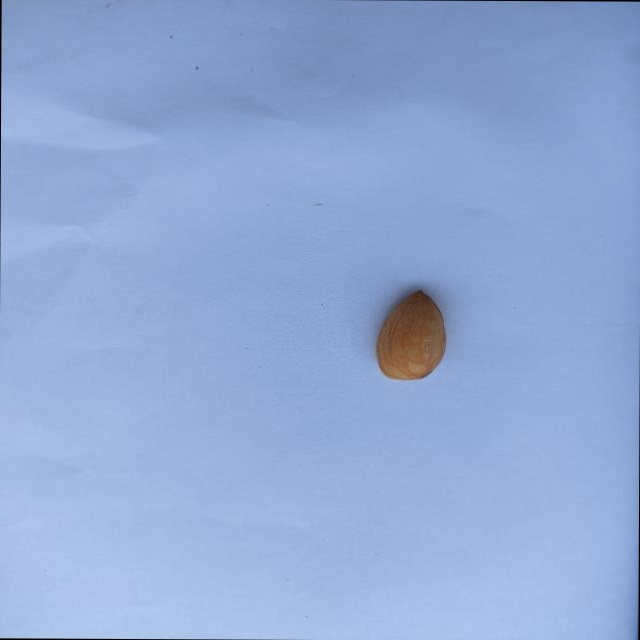grade2: (369, 287, 450, 384)
